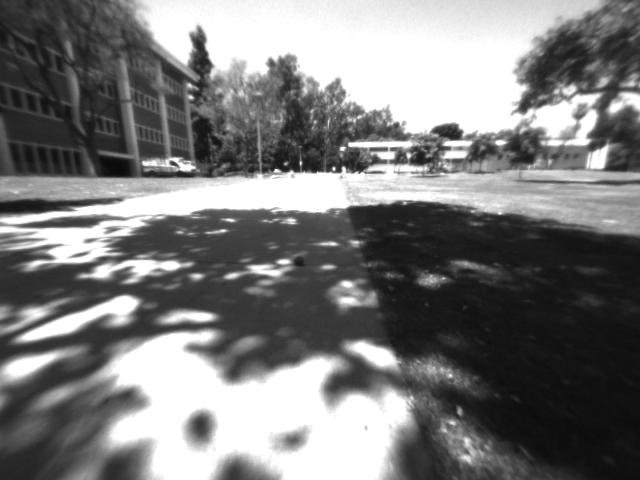dogtoy: (289, 252, 313, 271)
